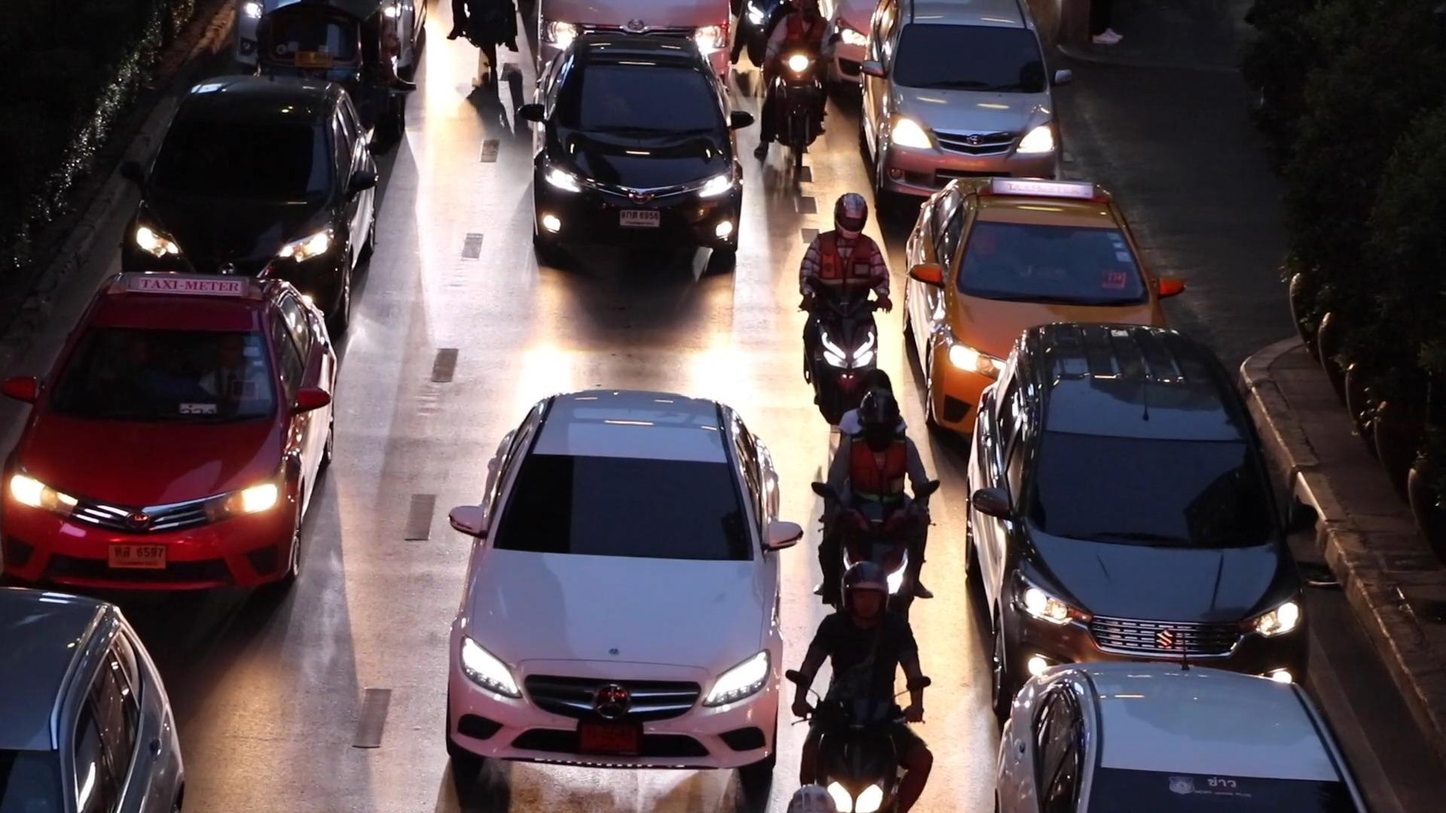driver: (786, 559, 934, 813), (811, 369, 941, 622), (798, 192, 892, 425), (754, 0, 841, 170)
helmet: (840, 561, 890, 622), (857, 388, 899, 452), (834, 193, 868, 241)
